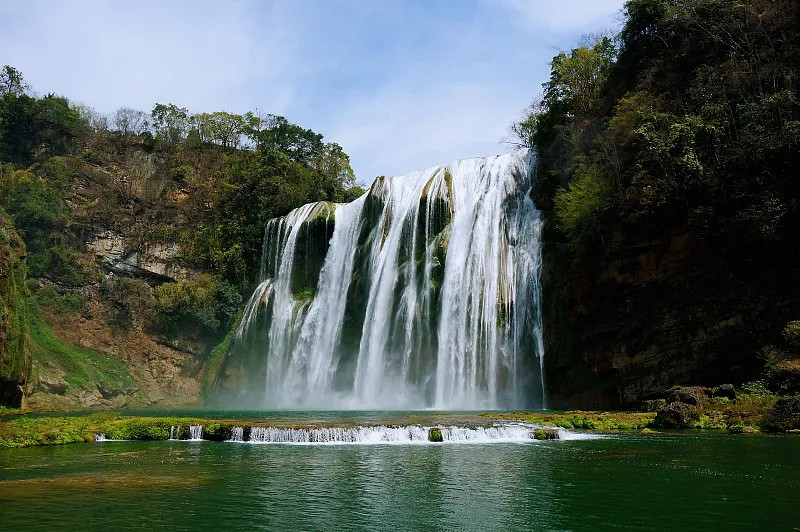Huangguoshu: (241, 147, 547, 410)
